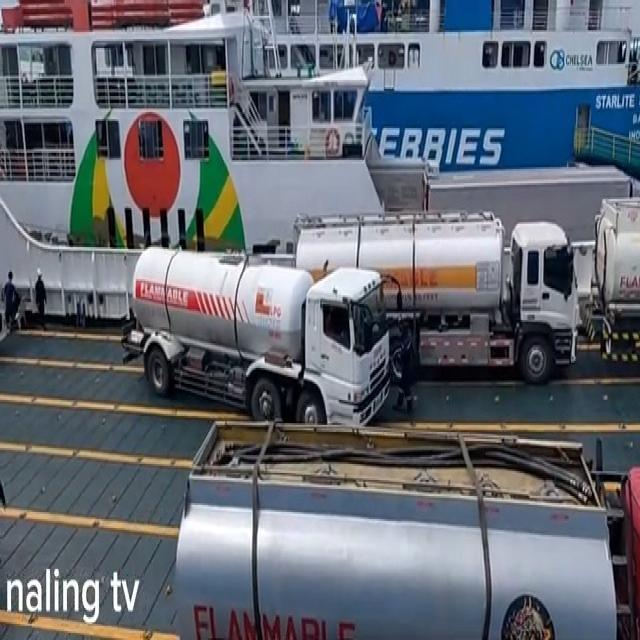truck: (178, 421, 640, 640), (127, 250, 396, 434), (292, 212, 582, 382), (590, 198, 640, 371)
